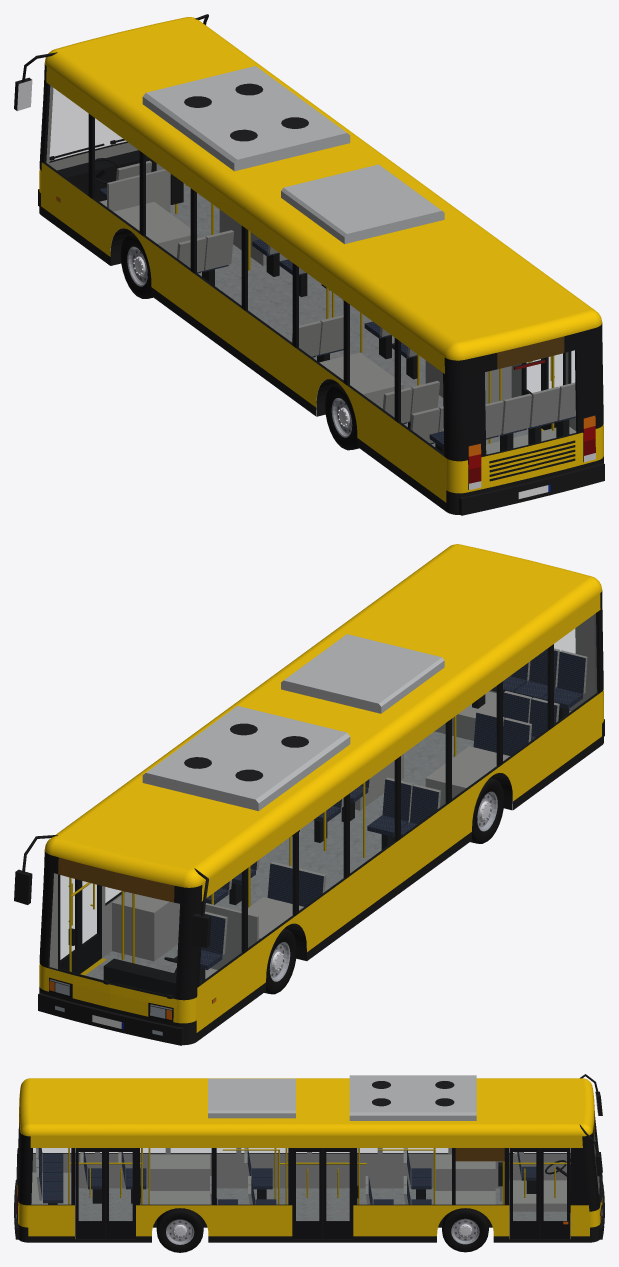
Rendered from bus_solo.glb.
3 views of the same model, one above another, from view 1: azimuth 30°, elevation 25°; view 2: azimuth 150°, elevation 25°; view 3: azimuth 270°, elevation 25° (orthographic). The views are drawn at different scales.
Visible parts, largest first — view 1: Body, Glass, Interior, Lights, Tire_RL, Tire_FL; view 2: Body, Glass, Interior, Lights, Door_1_L, Door_1_R, Tire_RL, Tire_FL; view 3: Body, Interior, Glass, Door_1_L, Door_2_L, Door_2_R, Door_1_R, Door_3_L, Door_3_R, Tire_RR, Tire_FR, Lights (+2 smaller).
Boxes of the visible parts, box(x1,y1,x2,y2) form: Body: box(14, 14, 604, 515); Glass: box(45, 85, 576, 454); Interior: box(46, 85, 576, 454); Lights: box(56, 197, 595, 483); Tire_RL: box(325, 383, 358, 450); Tire_FL: box(120, 233, 152, 298); Body: box(14, 544, 604, 1045); Glass: box(48, 612, 598, 998); Interior: box(49, 613, 597, 979); Lights: box(49, 857, 216, 1035); Door_1_L: box(79, 880, 101, 972); Door_1_R: box(58, 874, 80, 973); Tire_RL: box(470, 777, 504, 843); Tire_FL: box(264, 928, 296, 994); Body: box(14, 1074, 604, 1242); Interior: box(31, 1134, 599, 1238); Glass: box(18, 1126, 600, 1204); Door_1_L: box(509, 1148, 540, 1239); Door_2_L: box(292, 1148, 323, 1239); Door_2_R: box(322, 1148, 353, 1239); Door_1_R: box(539, 1148, 570, 1239); Door_3_L: box(75, 1148, 105, 1239); Door_3_R: box(105, 1148, 135, 1239); Tire_RR: box(156, 1208, 203, 1252); Tire_FR: box(442, 1208, 488, 1252); Lights: box(16, 1105, 604, 1226).
Size of the model in its own units: 3.16 by 3.05 by 12.11.
21 materials, 3 textured.
